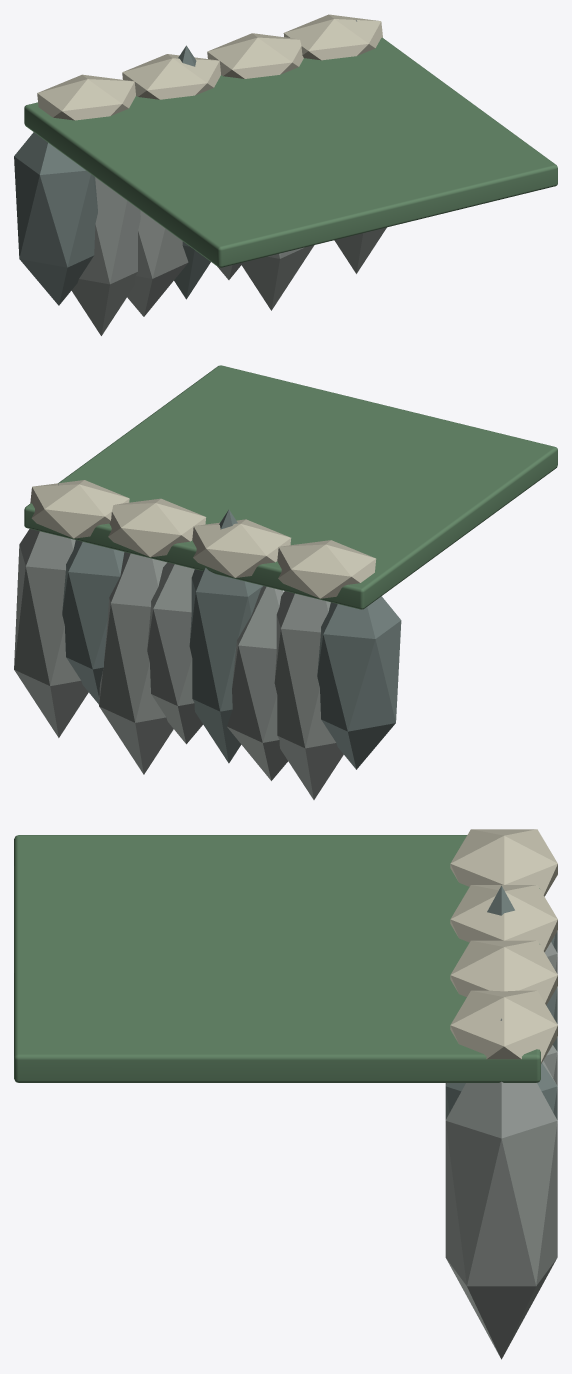
Rendered from SM_Terrain_CliffEdge_4m.fbx.
The picture shows the model from 3 angles, top to bottom: view 1: azimuth 30°, elevation 25°; view 2: azimuth 150°, elevation 25°; view 3: azimuth 270°, elevation 25°; orthographic projection. The views are drawn at different scales.
Parts seen in each view (by area): view 1: SM_Terrain_CliffEdge_4m; view 2: SM_Terrain_CliffEdge_4m; view 3: SM_Terrain_CliffEdge_4m.
Part boxes in pixels (left/top/right/bottom): SM_Terrain_CliffEdge_4m: left=14, top=14, right=557, bottom=335; SM_Terrain_CliffEdge_4m: left=14, top=365, right=557, bottom=799; SM_Terrain_CliffEdge_4m: left=14, top=829, right=557, bottom=1359.
Bounding box in the file's own units: 4.43 × 3.22 × 4.13.
